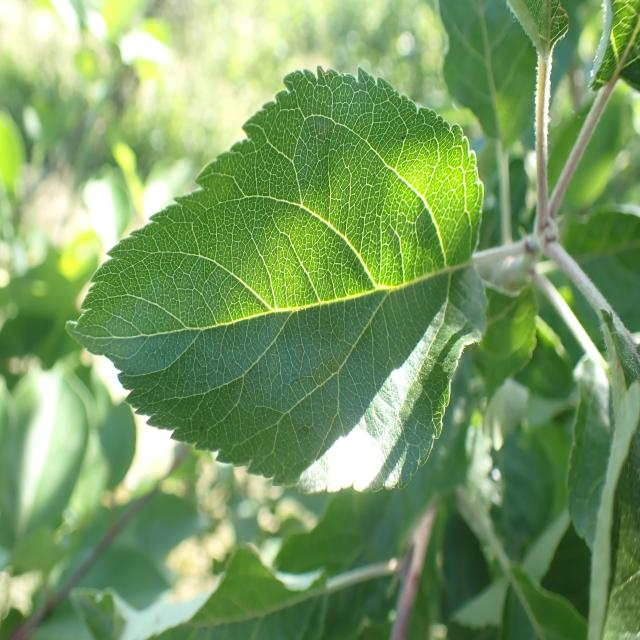healthy: (66, 63, 490, 495), (587, 0, 640, 93)
